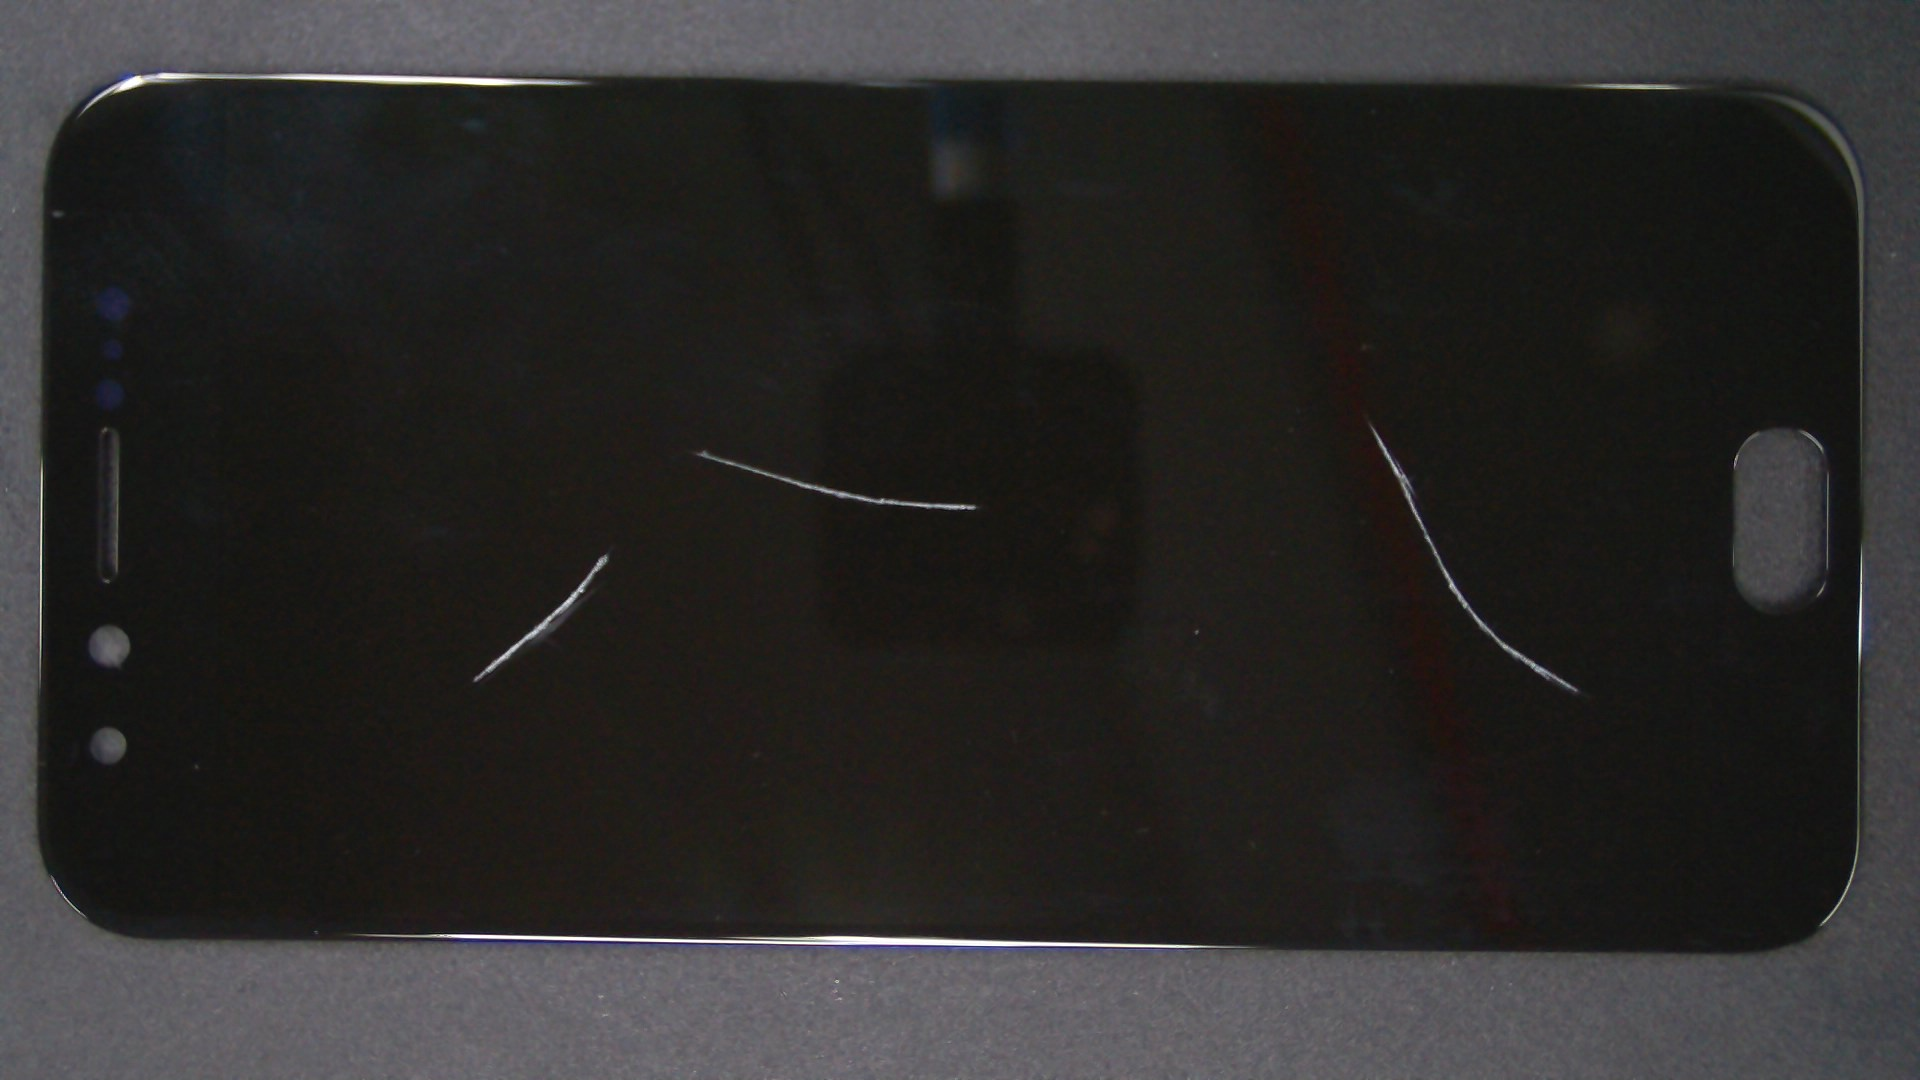oil: (684, 210, 1920, 632), (305, 276, 910, 831), (352, 223, 1054, 674)
